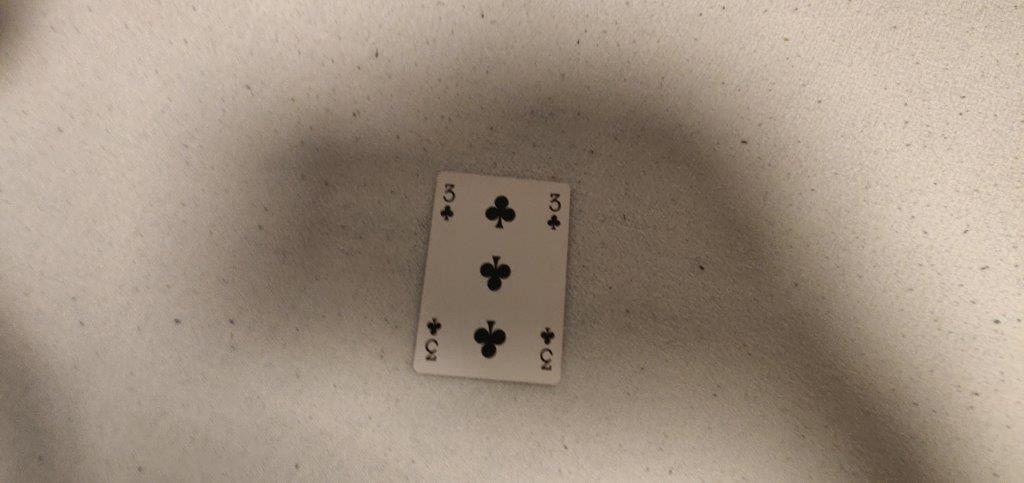3C: (439, 182, 461, 225), (545, 192, 564, 233)
